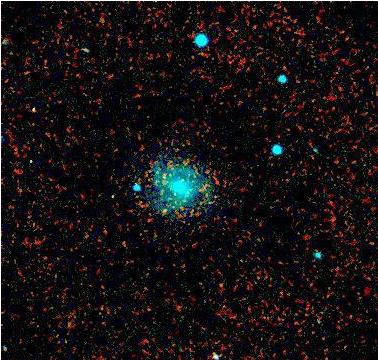star: (147, 192, 177, 222)
